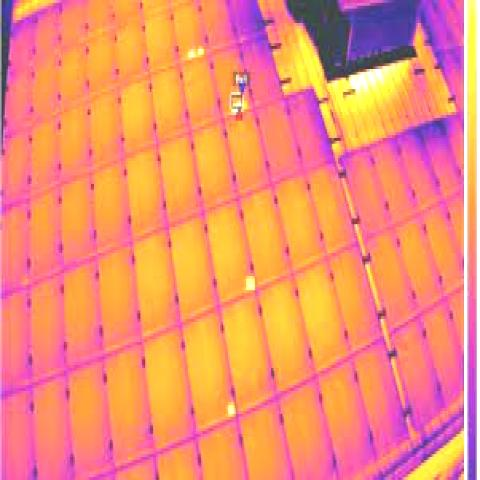fault: (224, 403, 238, 417), (246, 276, 255, 290), (196, 46, 206, 55), (186, 52, 194, 57)
